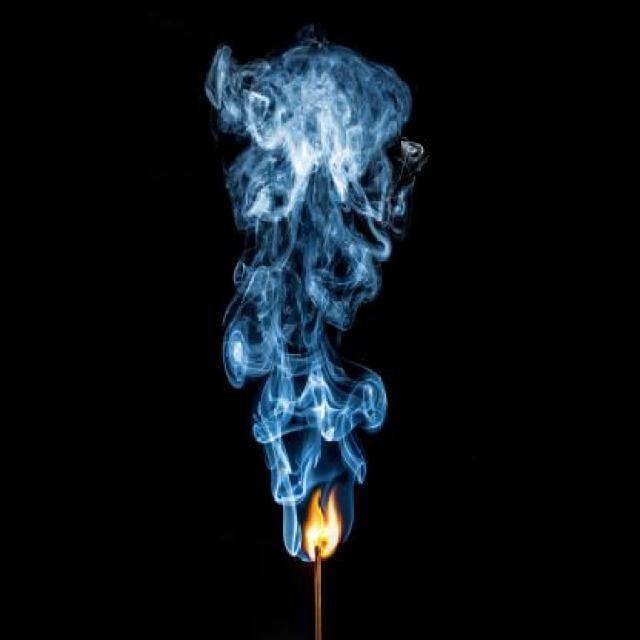Fire: (287, 494, 345, 572)
Smoke: (192, 6, 425, 552)
